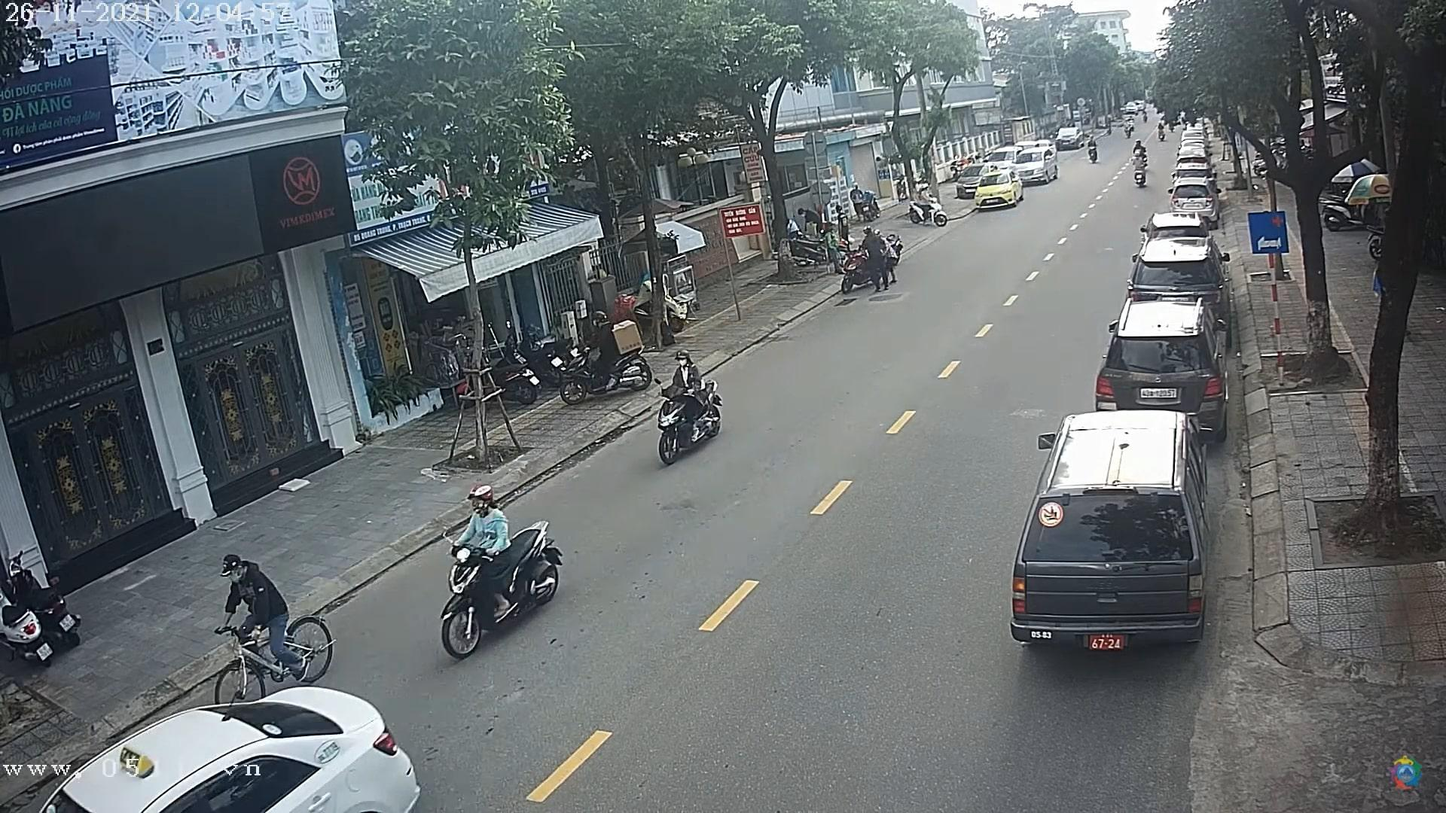car: (1057, 126, 1087, 149)
motorbike: (438, 528, 565, 660), (654, 376, 728, 464)
